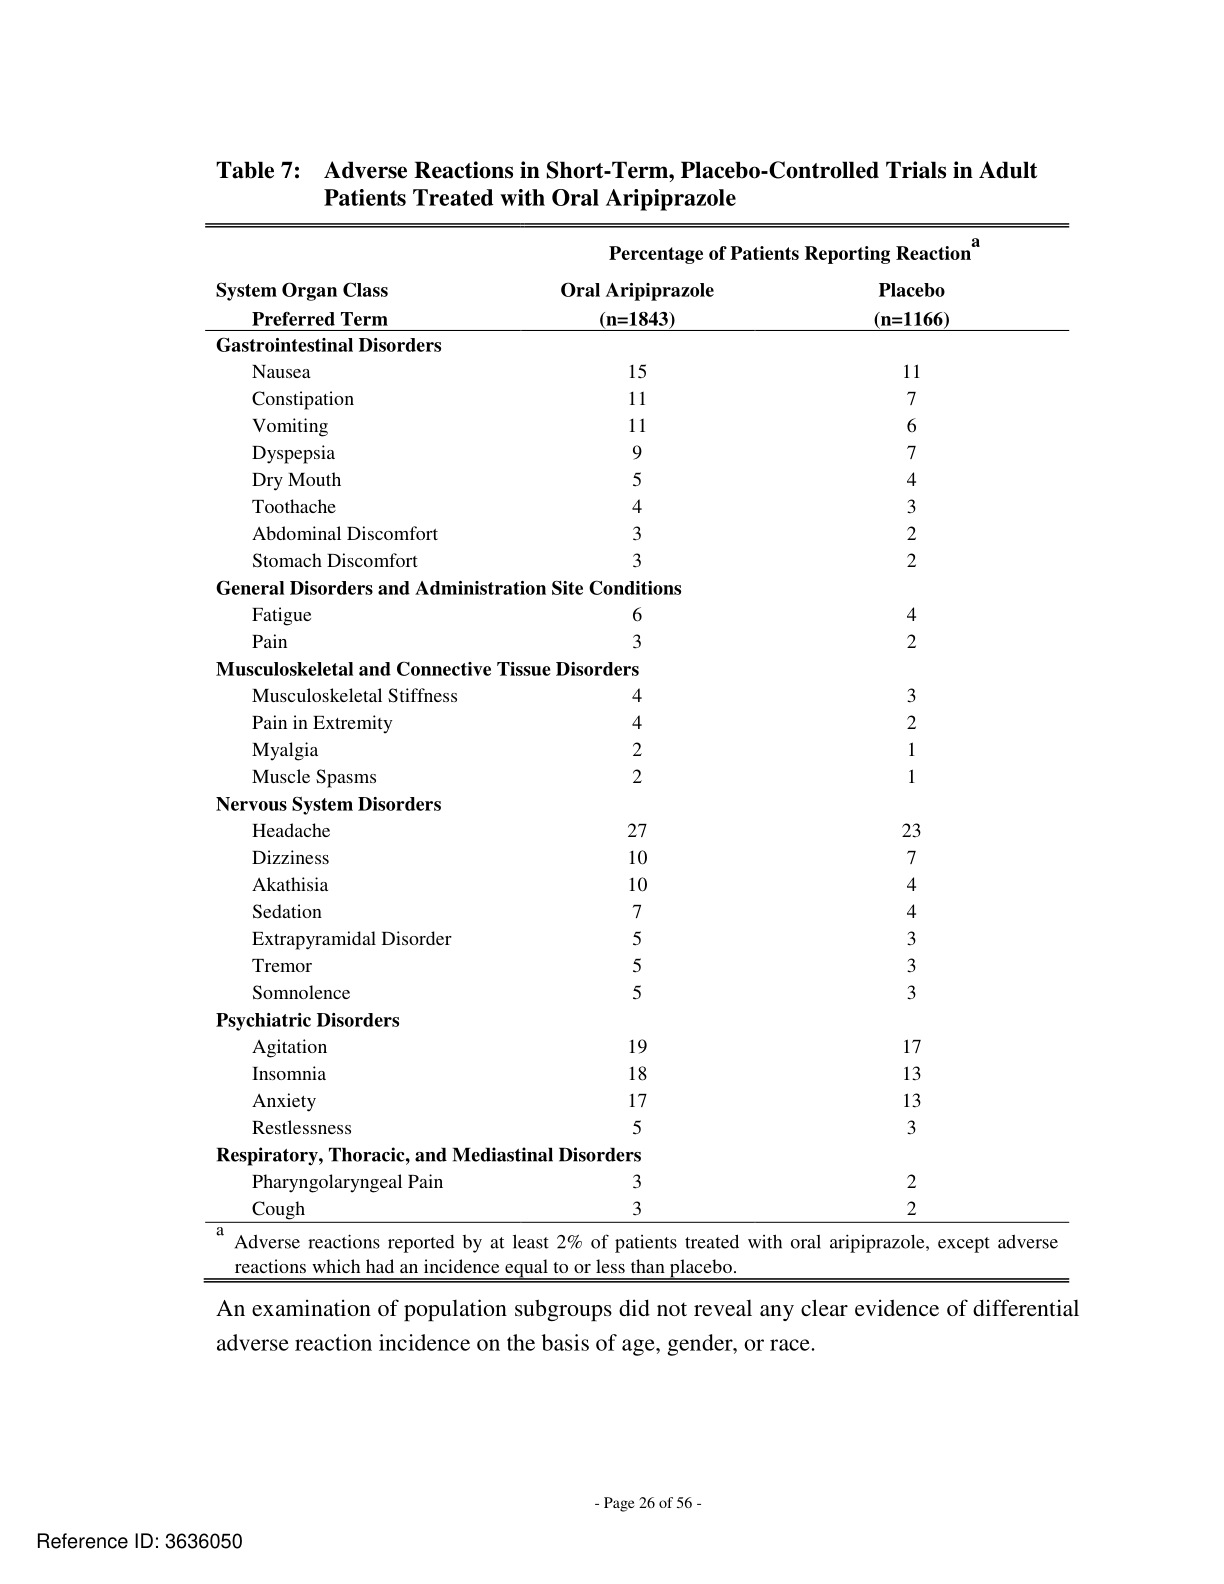partial_lined_merged_cells: (202, 222, 1074, 1224)
